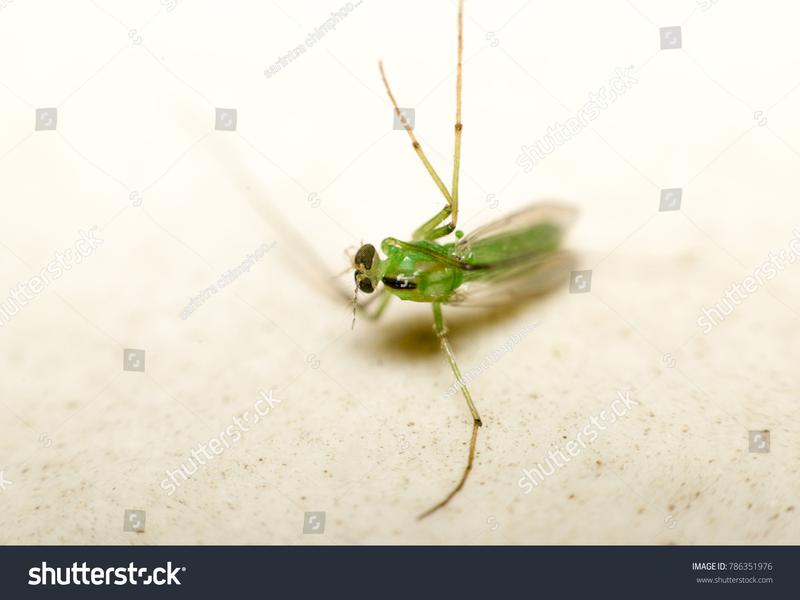Gall_midge: (326, 196, 582, 330)
